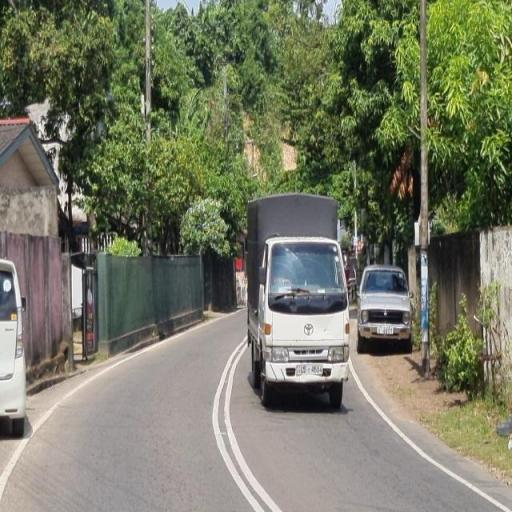double_white_line: (349, 360, 509, 510), (211, 333, 282, 512)
